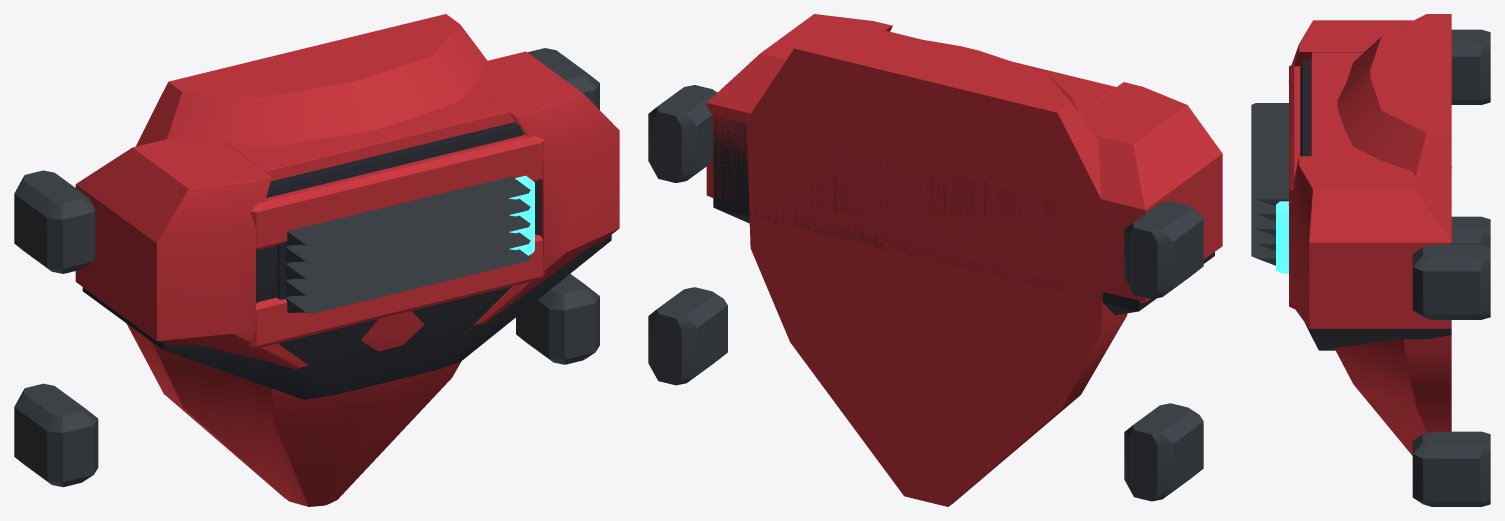
File: LowerArmBack_Set03_Overclock.fbx
3 renders of one model, left to right at view 1: azimuth 30°, elevation 25°; view 2: azimuth 150°, elevation 25°; view 3: azimuth 270°, elevation 25°, orthographic. The views are drawn at different scales.
Parts seen in each view (by area): view 1: LowerArmBack_Set03_Overclock; view 2: LowerArmBack_Set03_Overclock; view 3: LowerArmBack_Set03_Overclock.
Boxes of the visible parts, x1,y1,x2,y2 form: LowerArmBack_Set03_Overclock: (14,14,619,506); LowerArmBack_Set03_Overclock: (648,14,1222,506); LowerArmBack_Set03_Overclock: (1251,14,1490,506).
Size of the model in its own units: 0.43 by 0.33 by 0.1838.
